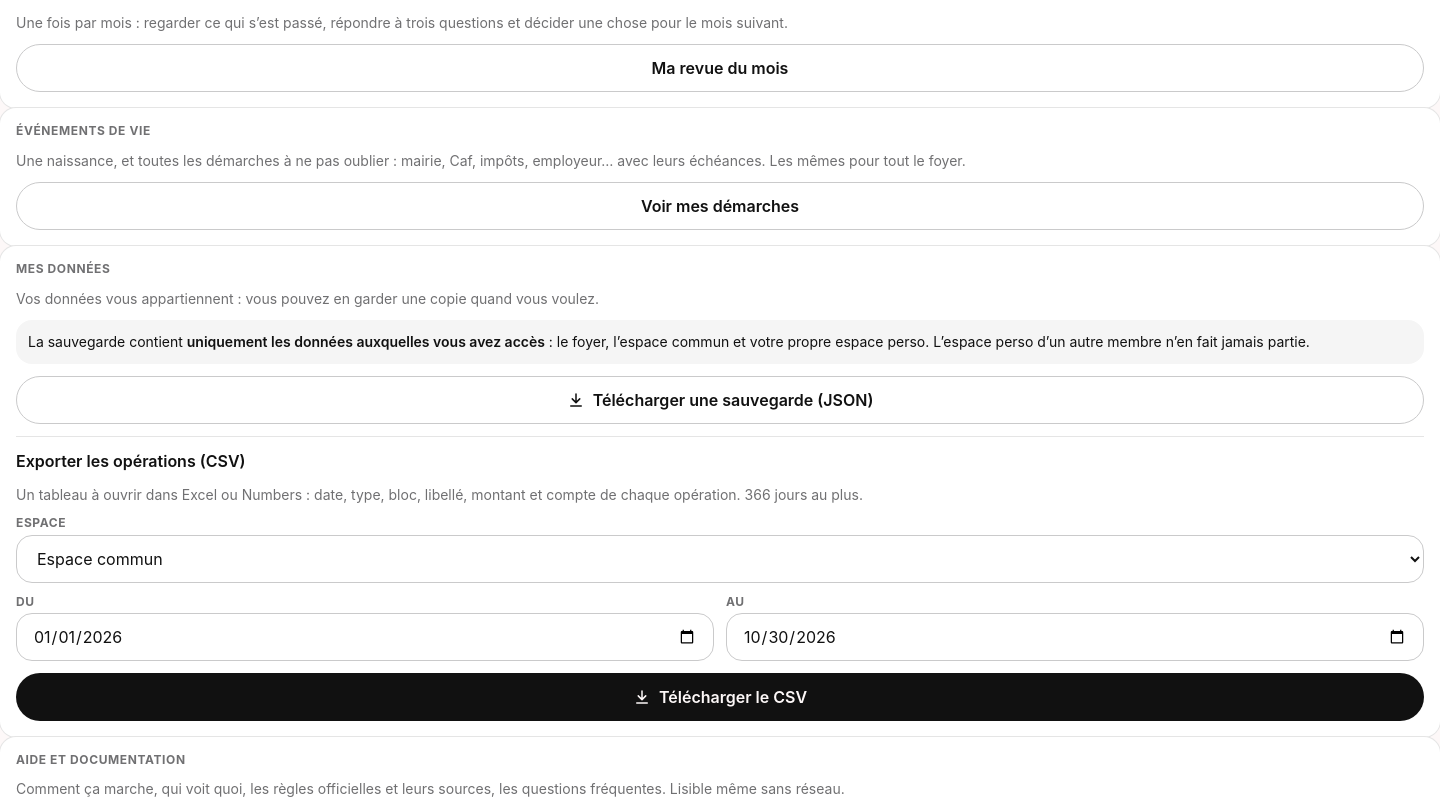
FoyerPage « Mes données » › JSON backup › explains a network failure and offers to retry
(page scrolled)
Click the button "Télécharger une sauvegarde (JSON)": (720, 400) [16, 376, 1424, 424]
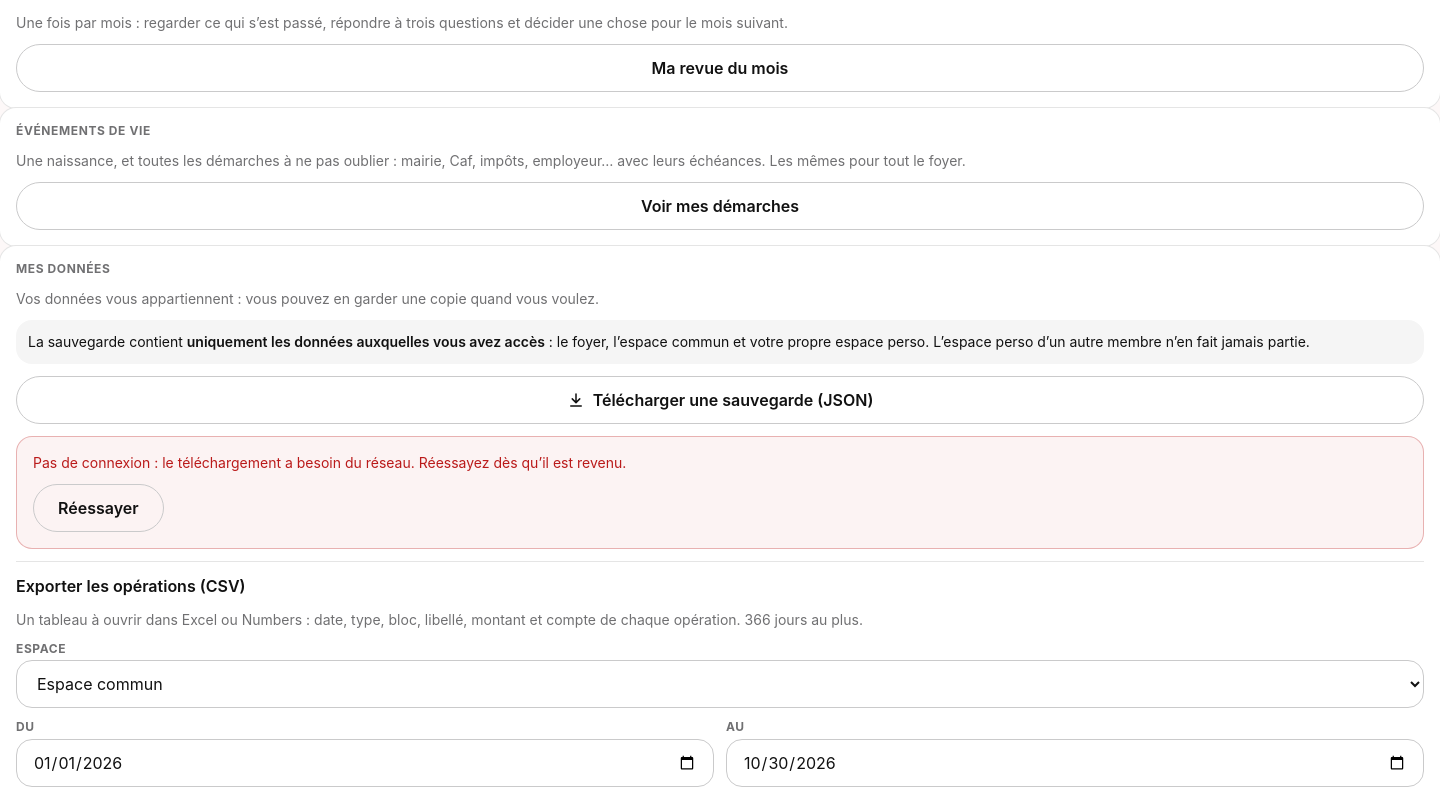
expect the message shows "Pas de connexion": met, box [33, 454, 626, 471]
Click the button "Réessayer": (98, 508) [33, 484, 164, 532]
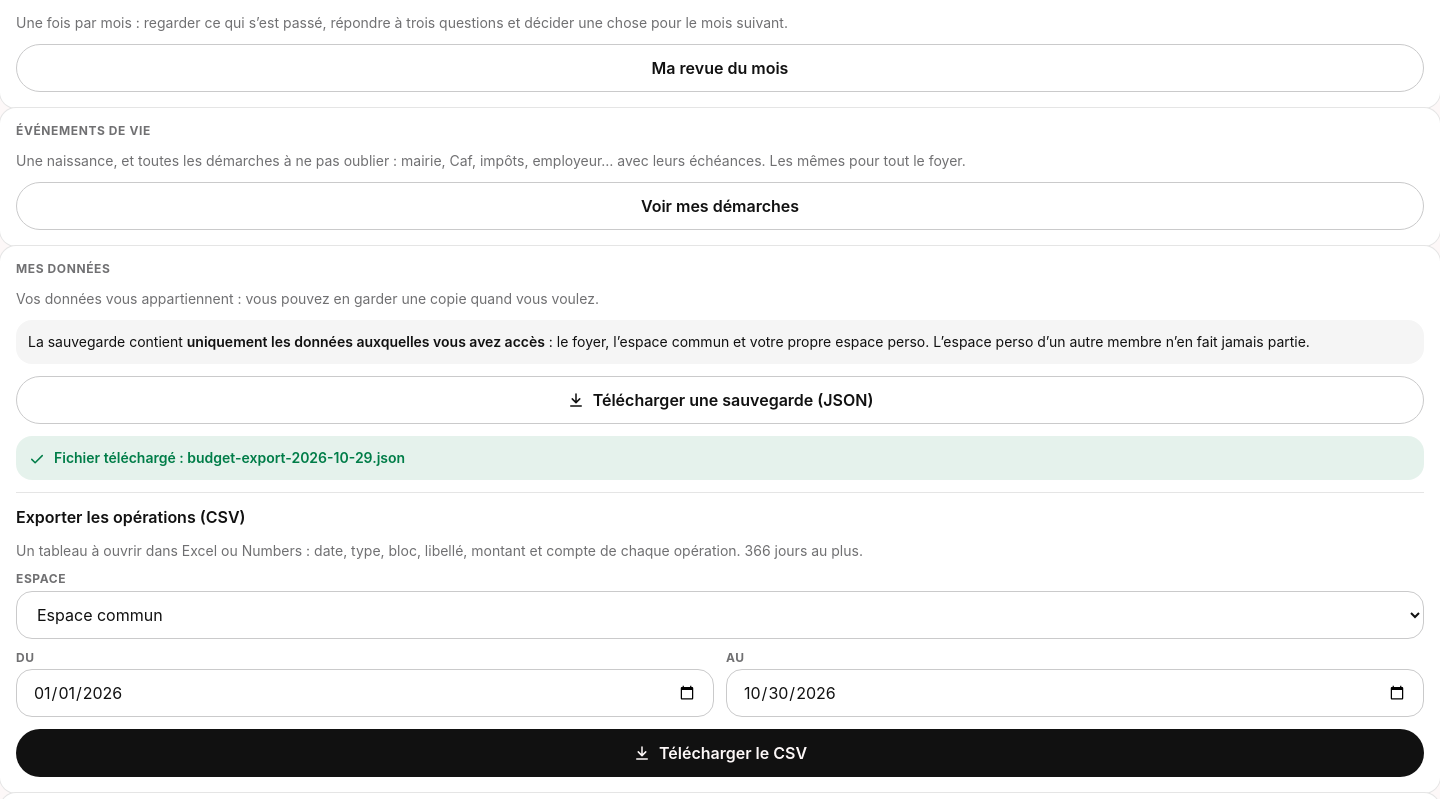
expect the text "Fichier téléchargé : budget-export-2026-10-29.json" is shown: met, box [54, 448, 405, 467]
